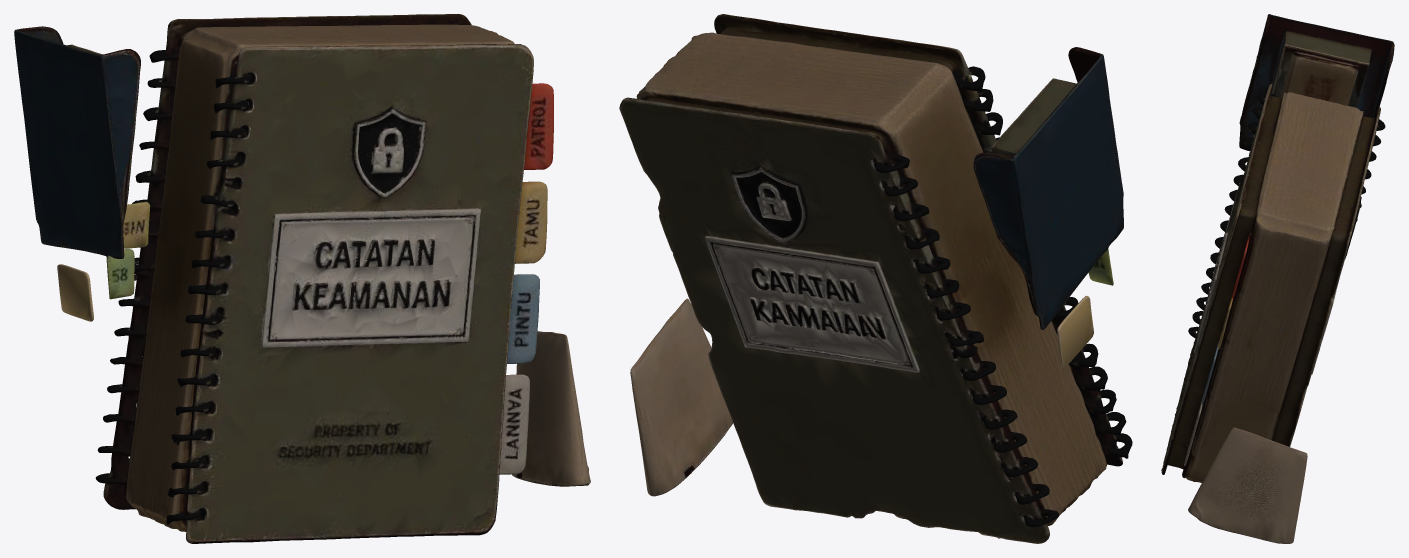
The model's file is tripo_convert_995af962-2186-47cd-b055-76f9e9428fb7.fbx.
3 renders of one model, left to right at view 1: azimuth 30°, elevation 25°; view 2: azimuth 150°, elevation 25°; view 3: azimuth 270°, elevation 25°, orthographic. The views are drawn at different scales.
Visible parts, largest first — view 1: tripo_node_995af962; view 2: tripo_node_995af962; view 3: tripo_node_995af962.
Boxes of the visible parts, box(x1,y1,x2,y2) form: tripo_node_995af962: box(14, 14, 590, 543); tripo_node_995af962: box(619, 14, 1132, 543); tripo_node_995af962: box(1161, 14, 1394, 543).
Size of the model in its own units: 87.42 by 55.75 by 100.
Materials: 1 (1 with a texture image).
